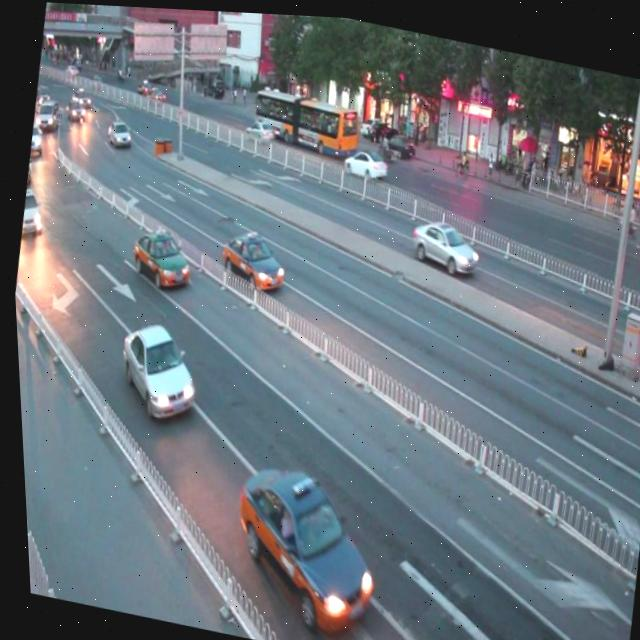car: (214, 452, 384, 637), (108, 316, 201, 425), (403, 207, 479, 274), (215, 225, 285, 292), (127, 223, 192, 288), (340, 140, 388, 179), (243, 112, 274, 143)
van: (248, 83, 360, 157)
